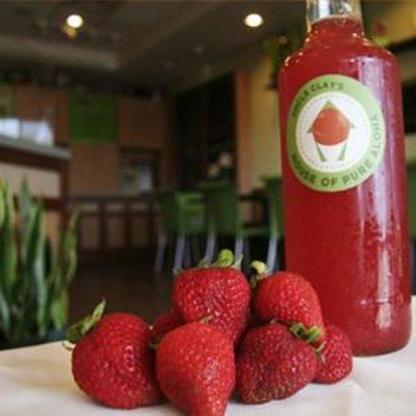other: (63, 233, 364, 410), (278, 10, 410, 359)
